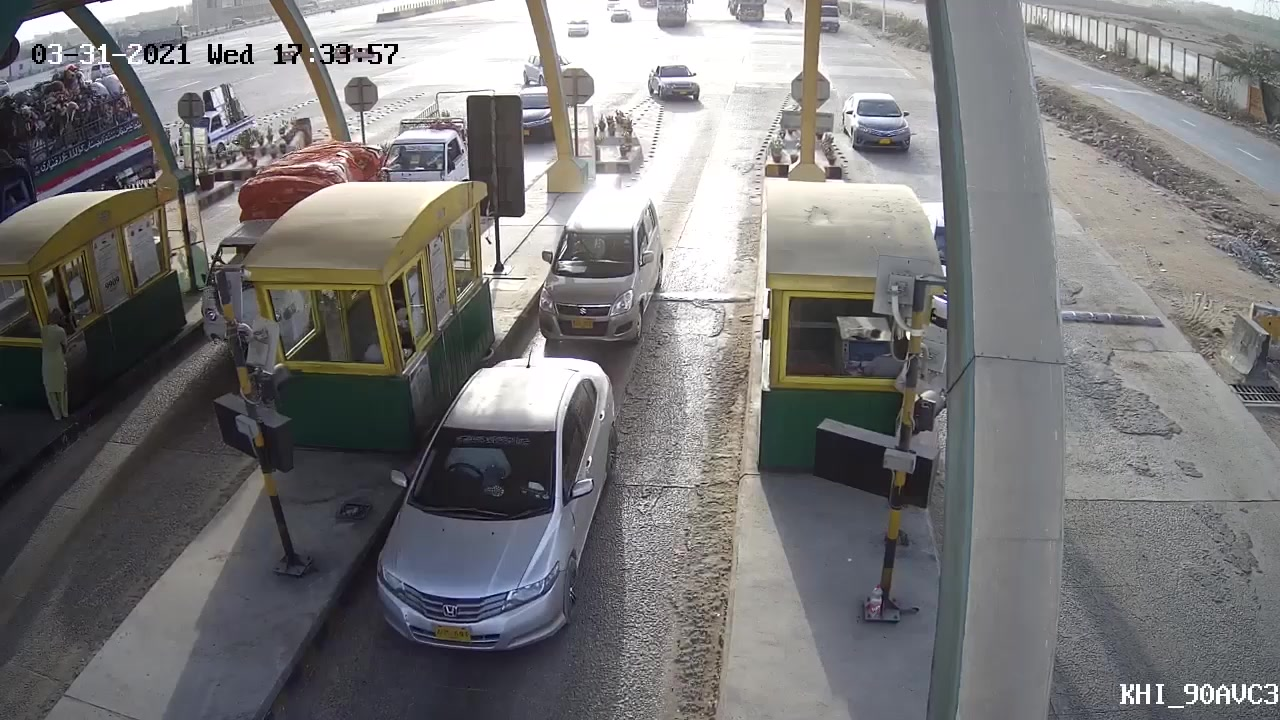F1: (370, 352, 616, 661)
